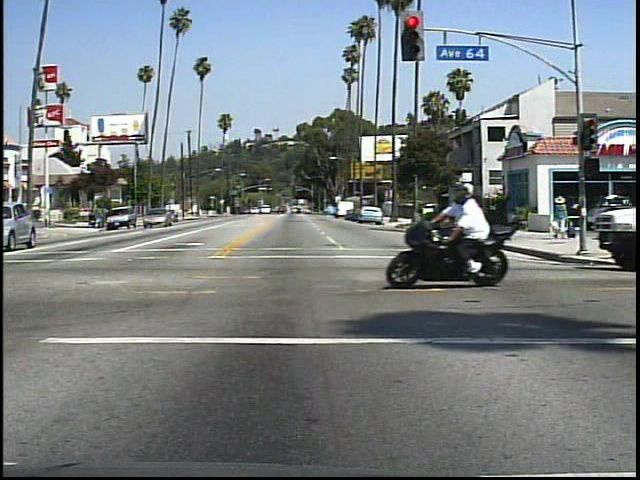person: (441, 178, 506, 282), (551, 192, 575, 240)
